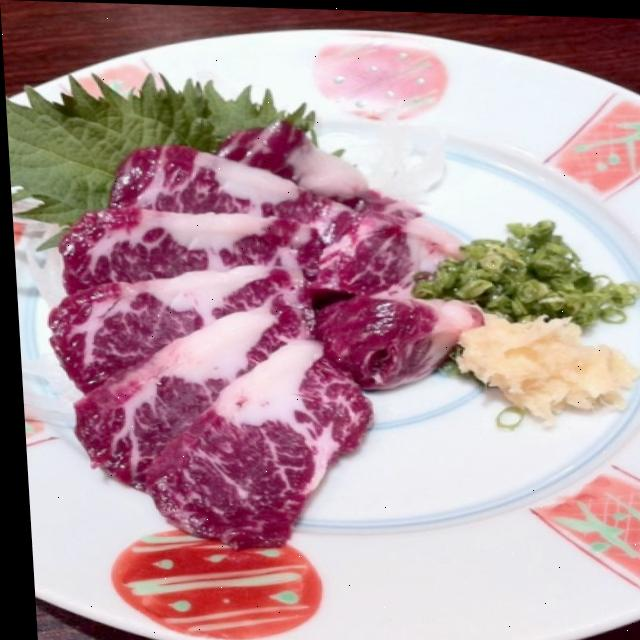刺身生食: (1, 29, 640, 625)
